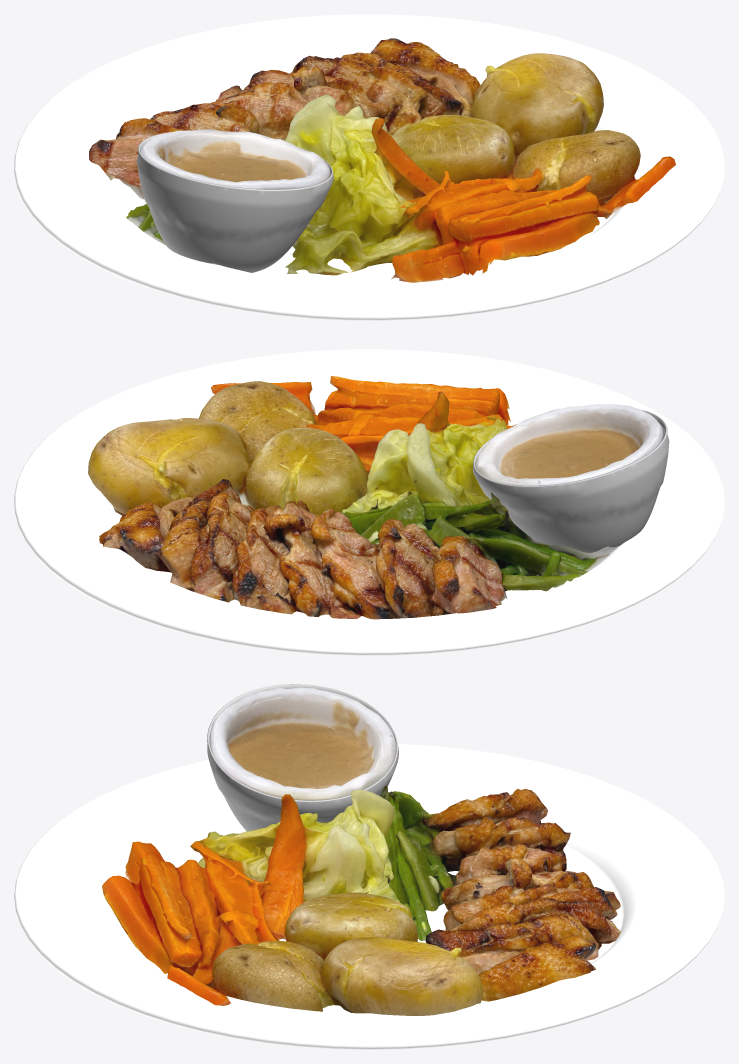
The model's file is MagraitConard.glb.
The picture shows the model from 3 angles, top to bottom: view 1: azimuth 30°, elevation 25°; view 2: azimuth 150°, elevation 25°; view 3: azimuth 270°, elevation 25°; orthographic projection.
Parts seen in each view (by area): view 1: Mesh_0, Circle, Bowl_Mesh; view 2: Mesh_0, Circle, Bowl_Mesh; view 3: Mesh_0, Circle, Bowl_Mesh.
Part boxes in pixels (bbox=[...]): Mesh_0: bbox=[89, 38, 675, 282]; Circle: bbox=[14, 14, 724, 320]; Bowl_Mesh: bbox=[136, 132, 333, 272]; Mesh_0: bbox=[88, 376, 664, 619]; Circle: bbox=[14, 349, 724, 655]; Bowl_Mesh: bbox=[473, 409, 669, 552]; Mesh_0: bbox=[102, 687, 620, 1015]; Circle: bbox=[14, 744, 724, 1049]; Bowl_Mesh: bbox=[207, 684, 398, 831].
Bounding box in the file's own units: 0.2998 × 0.0565 × 0.2998.
Materials: 3 (1 with a texture image).
